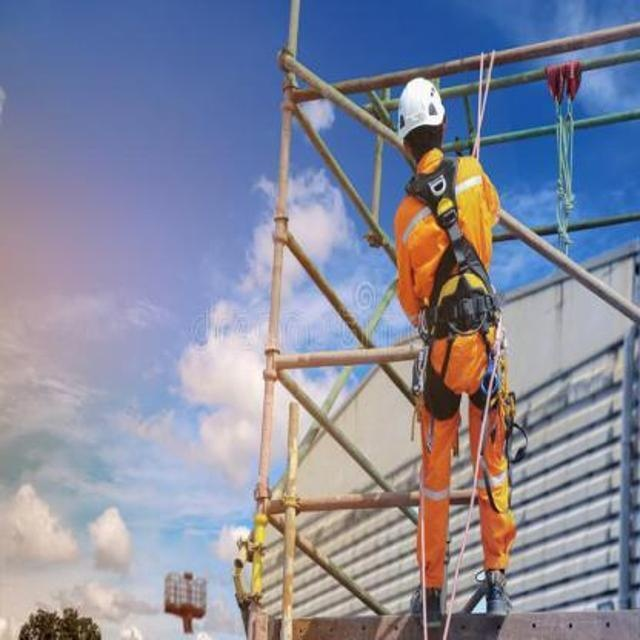Arnes_seguridad: (396, 149, 511, 424)
